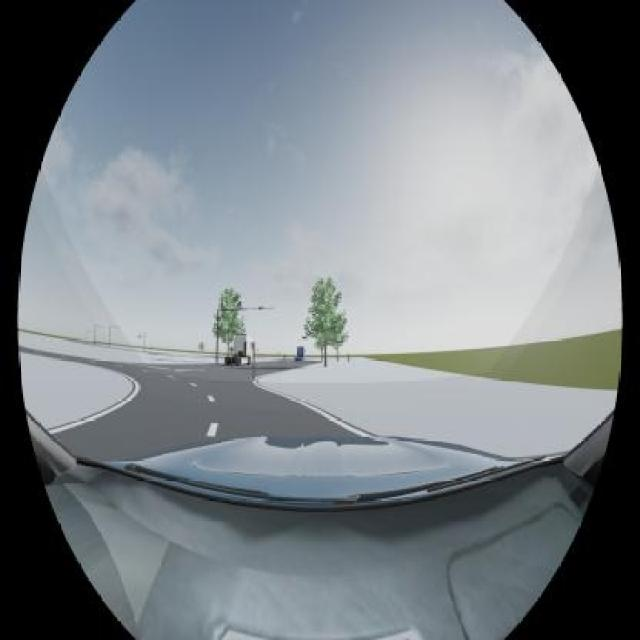forb_speed_over_60: (229, 347, 234, 351)
